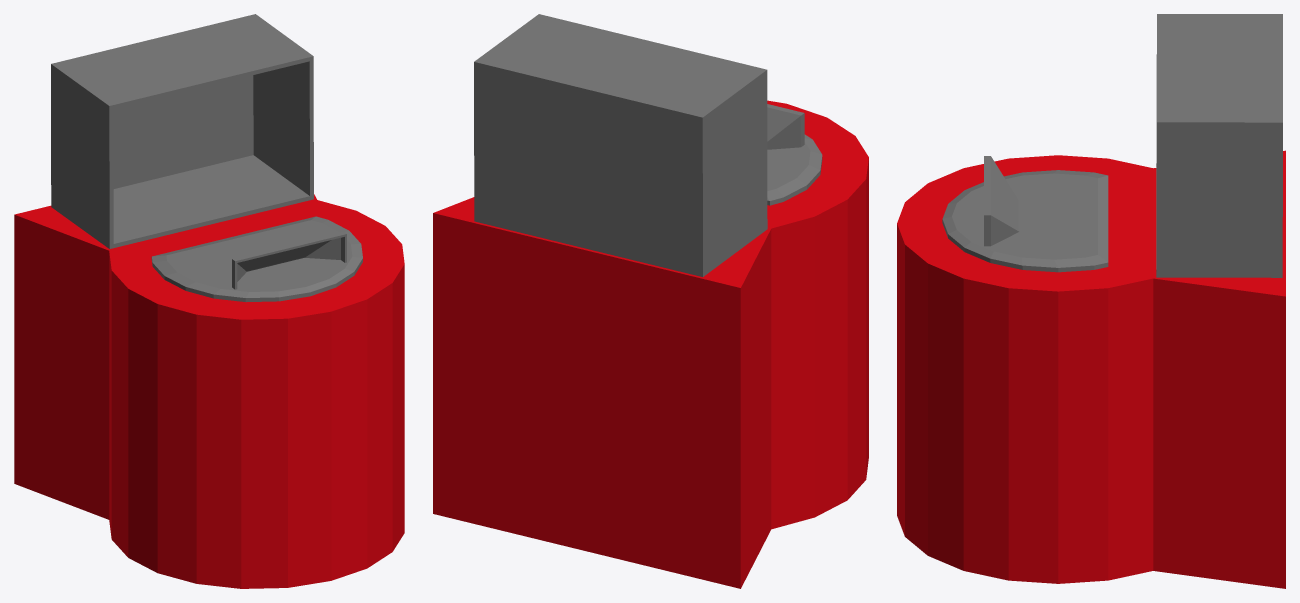
The model's file is CoffeeRoaster1.fbx.
3 views of the same model, side by side, from view 1: azimuth 30°, elevation 25°; view 2: azimuth 150°, elevation 25°; view 3: azimuth 270°, elevation 25° (orthographic). The views are drawn at different scales.
Parts seen in each view (by area): view 1: Cylinder.001, Cube.009; view 2: Cylinder.001, Cube.009; view 3: Cylinder.001, Cube.009.
Part boxes in pixels (bbox=[...]): Cylinder.001: bbox=[14, 14, 404, 588]; Cube.009: bbox=[232, 231, 346, 289]; Cylinder.001: bbox=[433, 14, 868, 588]; Cube.009: bbox=[767, 104, 804, 149]; Cylinder.001: bbox=[897, 14, 1285, 588]; Cube.009: bbox=[984, 156, 1019, 246].
Size of the model in its own units: 133 by 191 by 150.
